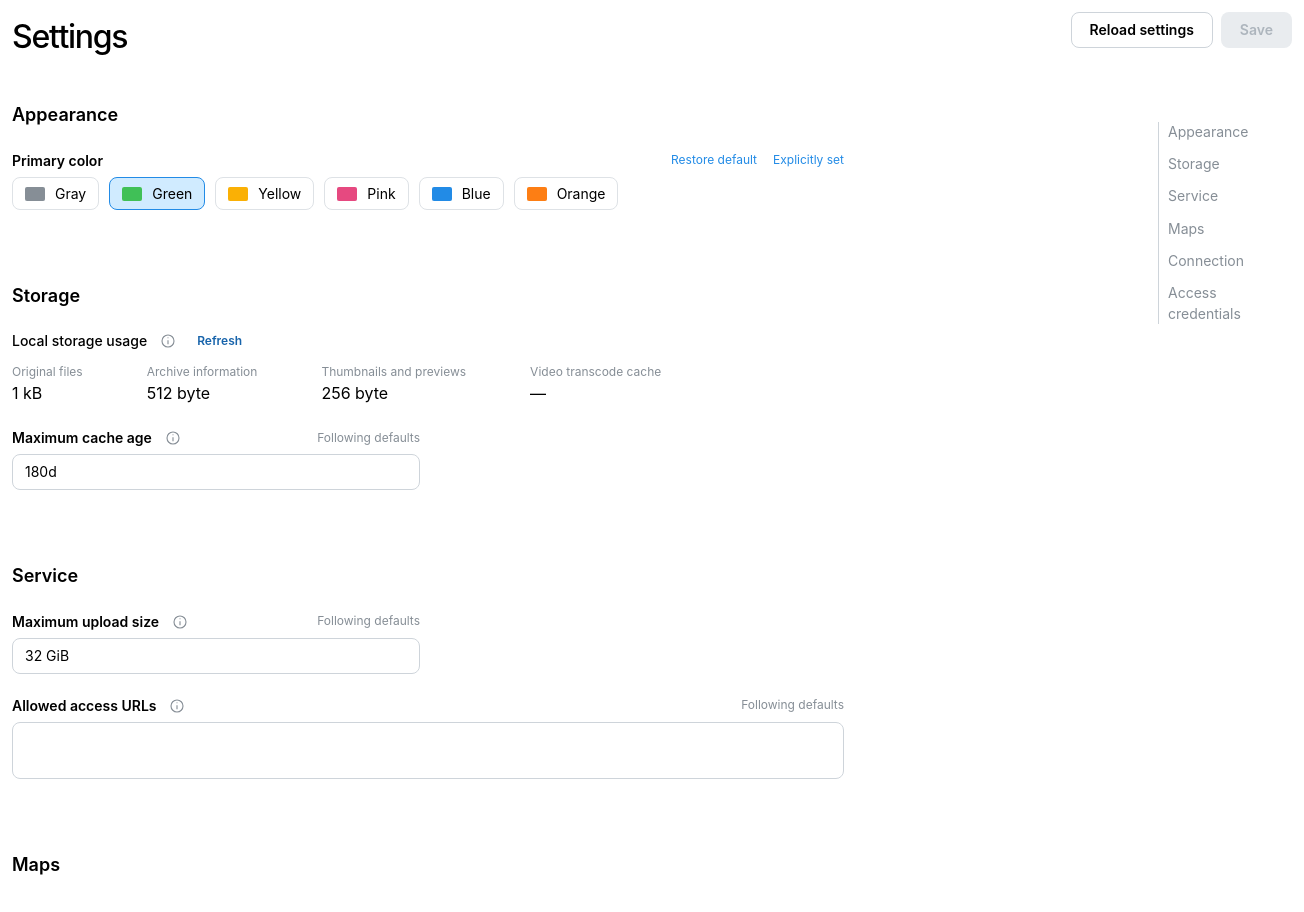
Test case: shows inherited state without a reset until a default field is explicitly edited
Expected: the text "Following defaults" next to "Maximum upload size" is shown, [317,613,420,628]
Replace the text in the field labelled "Maximum upload size" with "16 GiB" at [216, 656], box [12,638,420,674]
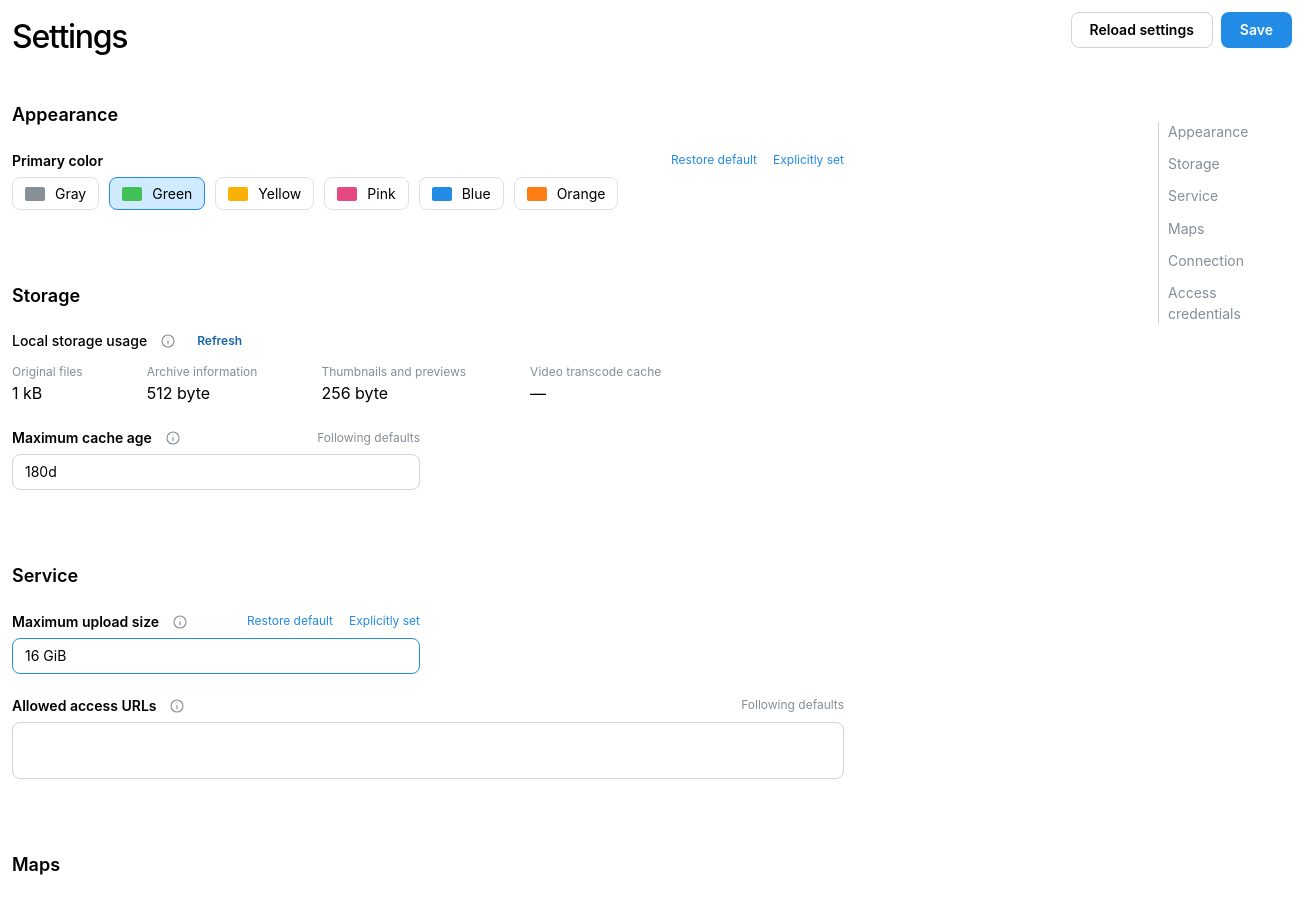
Expected: the button "Restore default" next to "Maximum upload size" is enabled, [247,613,333,630]
Expected: the element "Restore default" is shown, [12,610,420,634]
Expected: the text "Explicitly set" in the row of "Maximum upload size" is shown, [349,613,420,628]
Replace the text in the field labelled "Maximum upload size" with "32 GiB" at [216, 656], box [12,638,420,674]
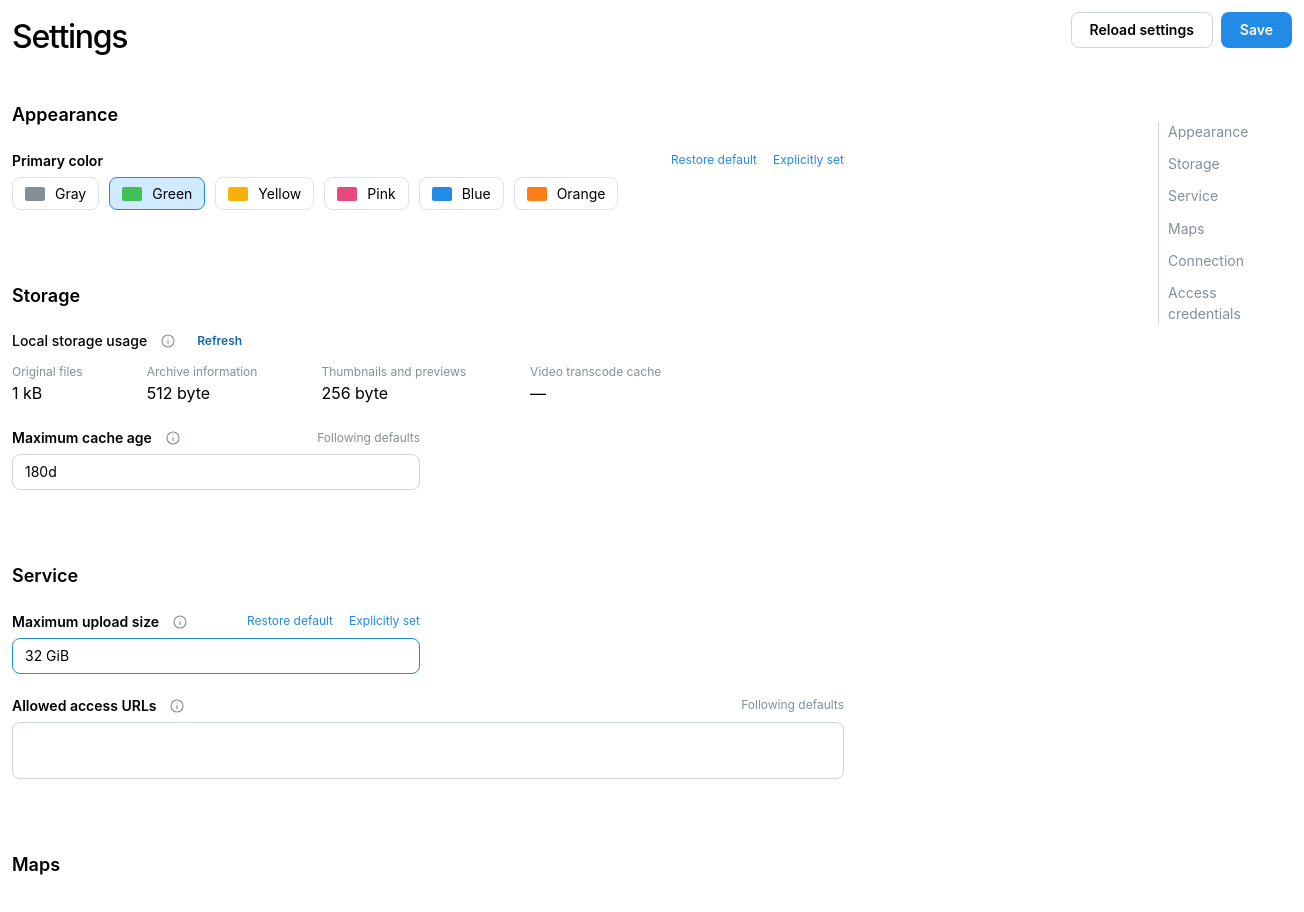
Expected: the text "Explicitly set" in the row of "Maximum upload size" is shown, [349,613,420,628]
Click the button "Restore default" next to "Maximum upload size" at [290, 622], box [247,613,333,630]
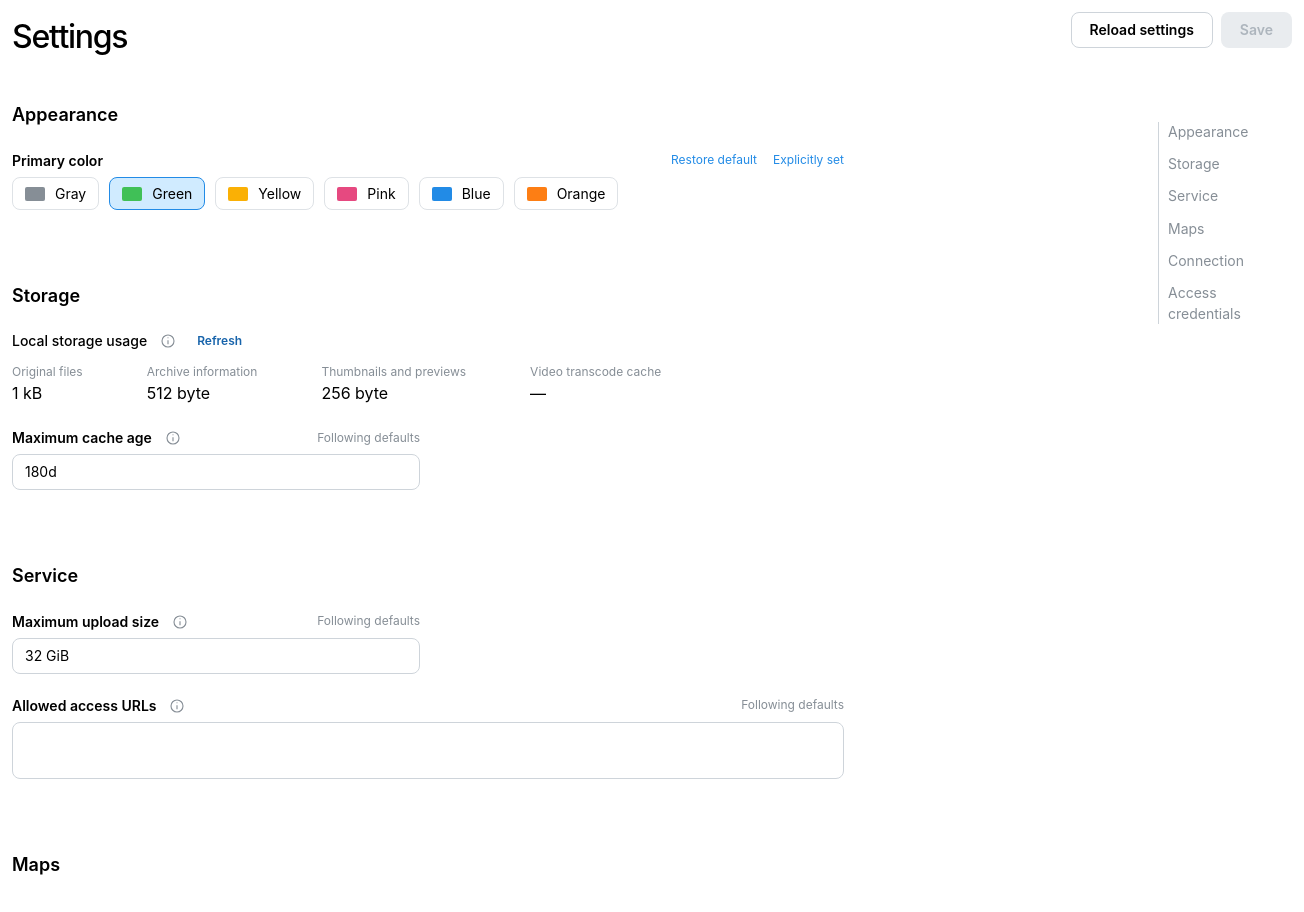
Expected: the text "Following defaults" next to "Maximum upload size" is shown, [317,613,420,628]
